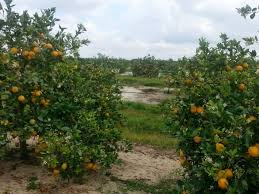orange: (189, 104, 196, 112), (51, 51, 57, 58)
